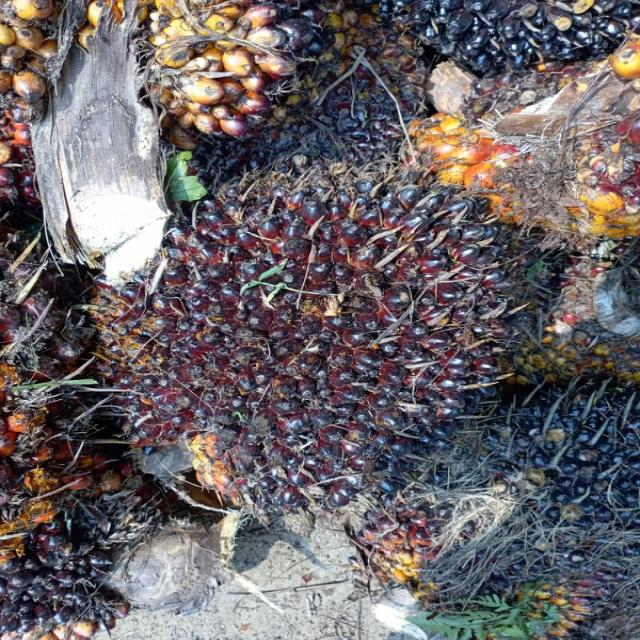fraksi 00: (381, 379, 640, 640)
fraksi 1: (92, 166, 530, 504)
